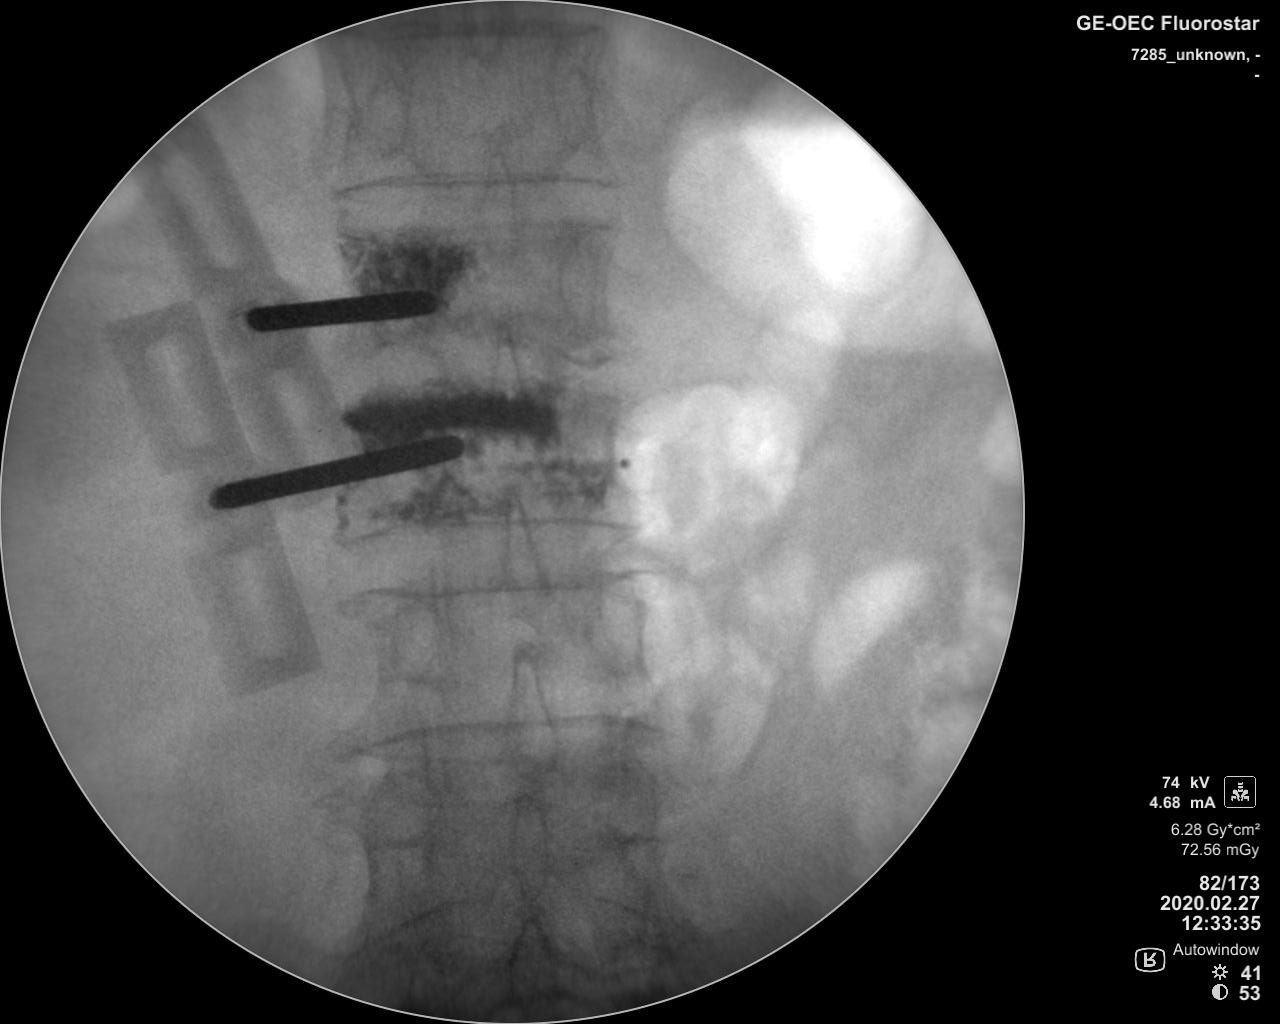eyes: (370, 766, 444, 847), (587, 594, 649, 679), (601, 760, 664, 842), (565, 415, 620, 506), (385, 603, 442, 686), (358, 76, 414, 162), (549, 63, 597, 150), (561, 236, 610, 320)
line: (338, 716, 670, 748), (338, 575, 652, 603), (327, 172, 627, 202), (335, 518, 651, 544), (382, 20, 604, 44)
nose: (501, 645, 564, 781), (494, 487, 554, 618), (471, 145, 519, 276), (502, 912, 561, 1009), (503, 793, 555, 902), (484, 308, 523, 448)
